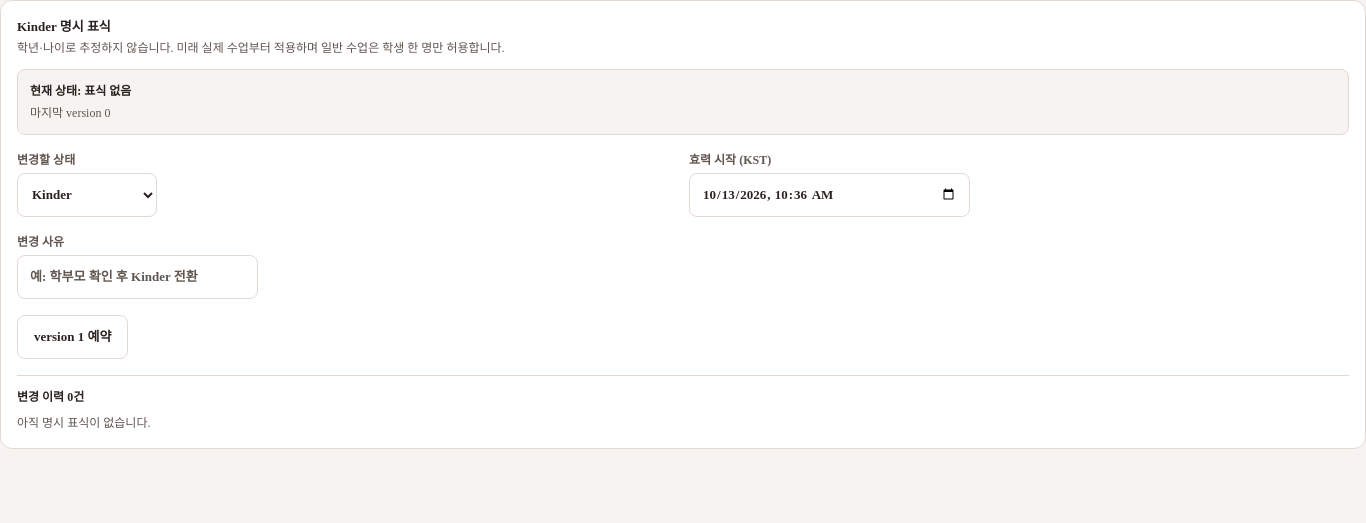
KinderMarkerPanel › 서버 version과 KST 미래 시각·사유를 생성 DTO 그대로 POST하고 재조회한다
The image size is (1366, 523).
Expected: the text "현재 상태: 표식 없음" is shown, x1=30 y1=84 x2=131 y2=98
Replace the text in the field labelled "효력 시작 (KST)" with "2026-10-20T10:00" at [830, 194], box x1=689 y1=172 x2=970 y2=216
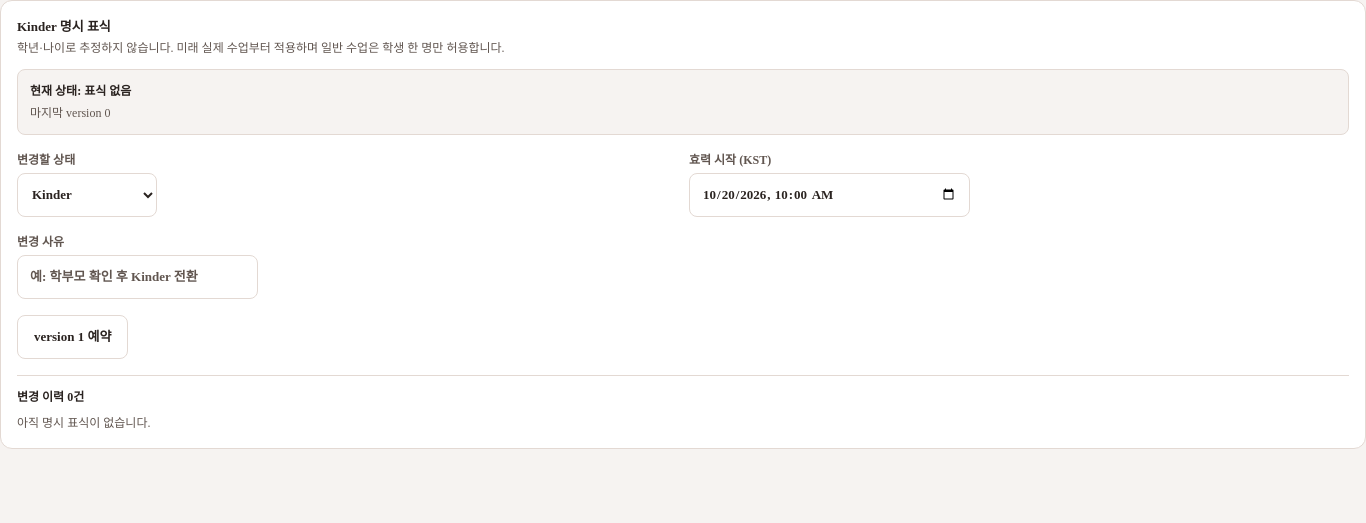
Type "  학부모 확인  " into the field labelled "변경 사유" at [138, 276], box x1=17 y1=254 x2=258 y2=298
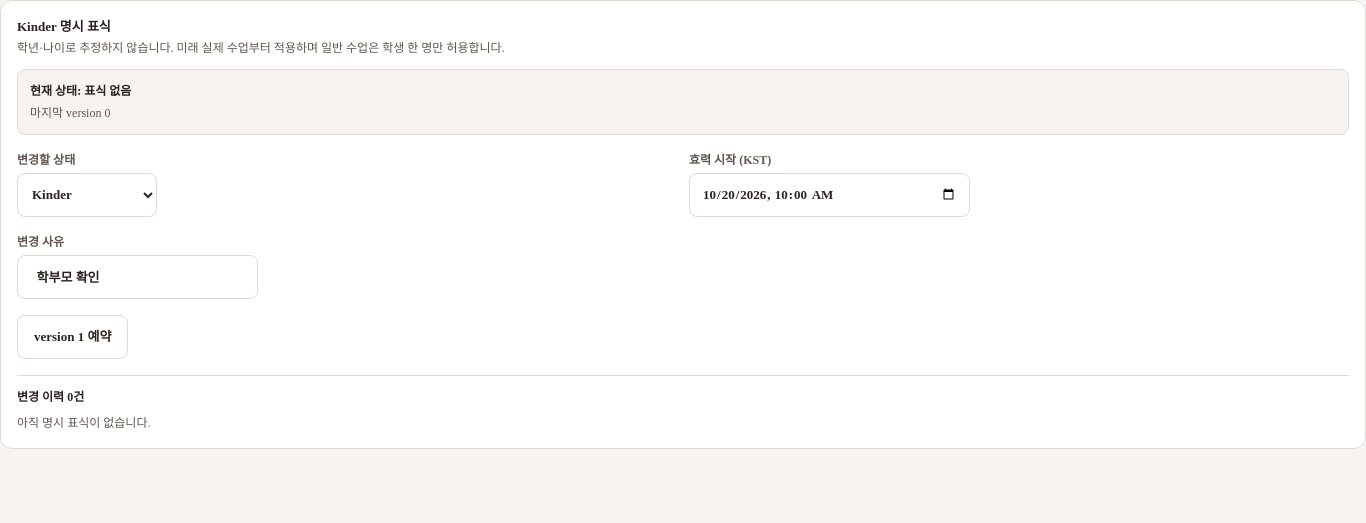
Click the button "version 1 예약" at [73, 336], box x1=17 y1=314 x2=128 y2=358
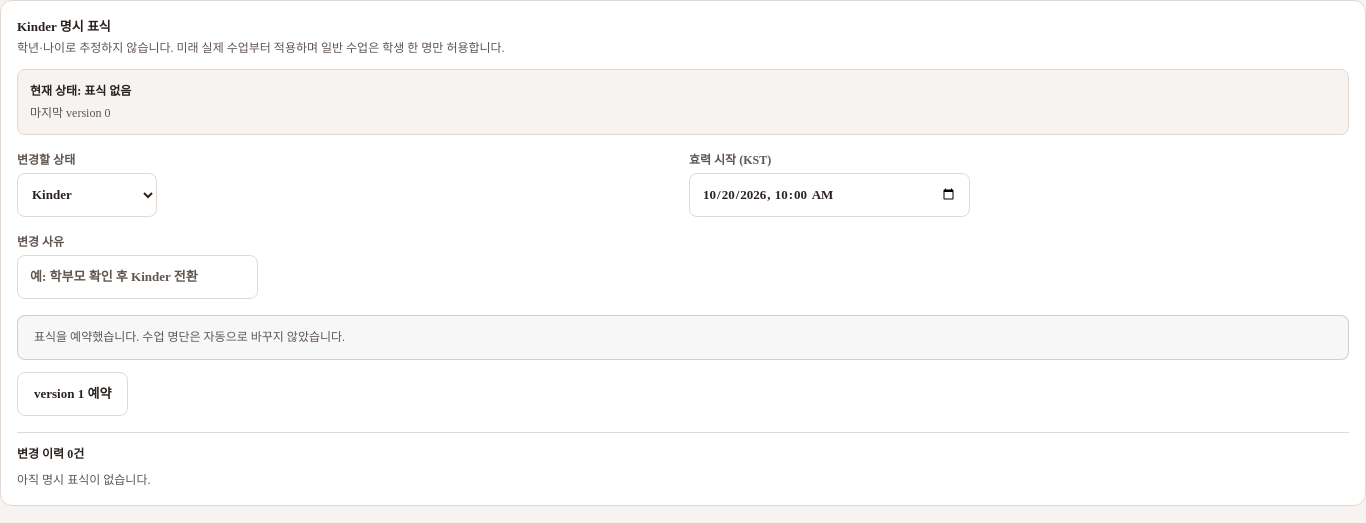
Result: the text "표식을 예약했습니다. 수업 명단은 자동으로 바꾸지 않았습니다." is shown at x1=17 y1=314 x2=1349 y2=360
